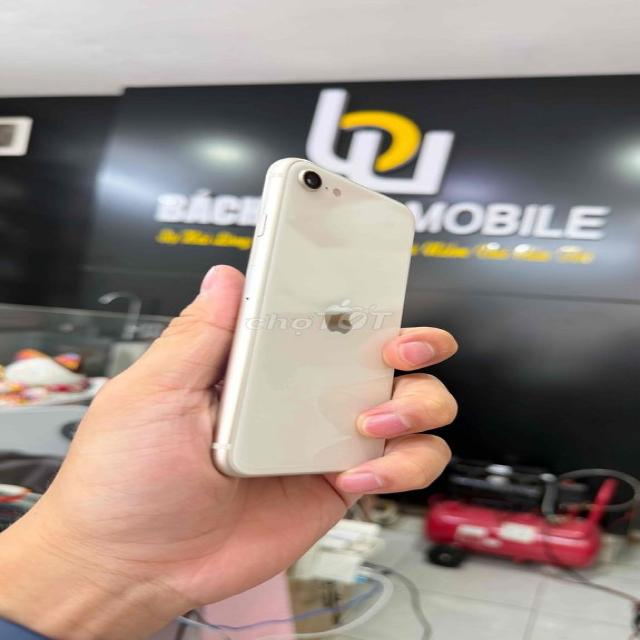gen_7_8: (202, 148, 427, 480)
